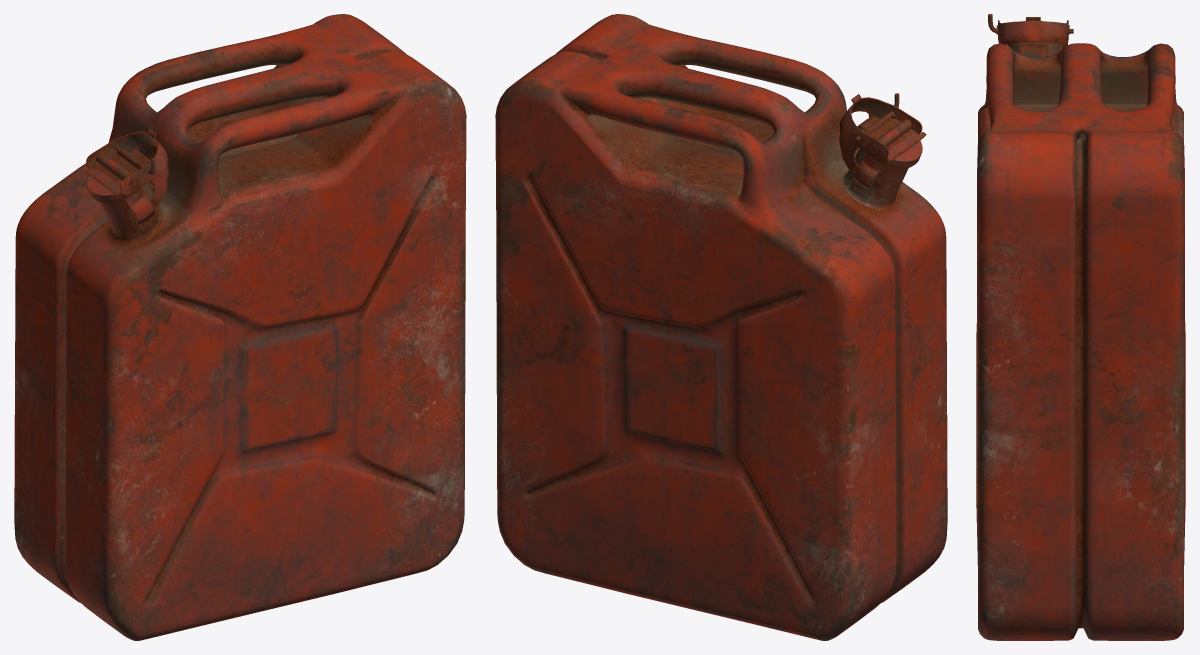
Rendered from metal_jerrycan.glb.
3 renders of one model, left to right at view 1: azimuth 30°, elevation 25°; view 2: azimuth 150°, elevation 25°; view 3: azimuth 270°, elevation 25°, orthographic. The views are drawn at different scales.
Bounding box in the file's own units: 0.3503 × 0.4552 × 0.1718.
1 material, 1 textured.
